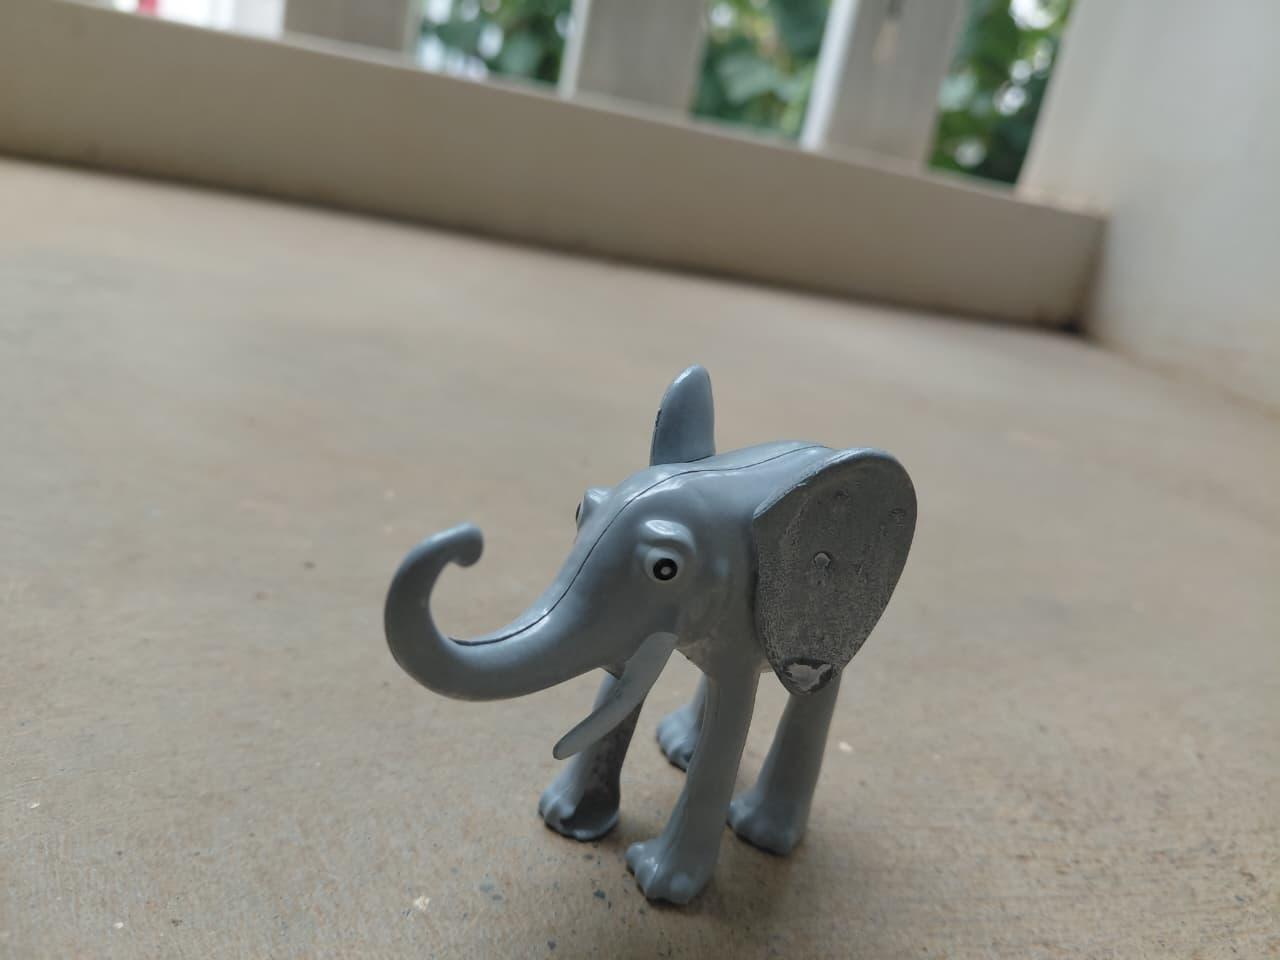elephant: (376, 356, 921, 910)
